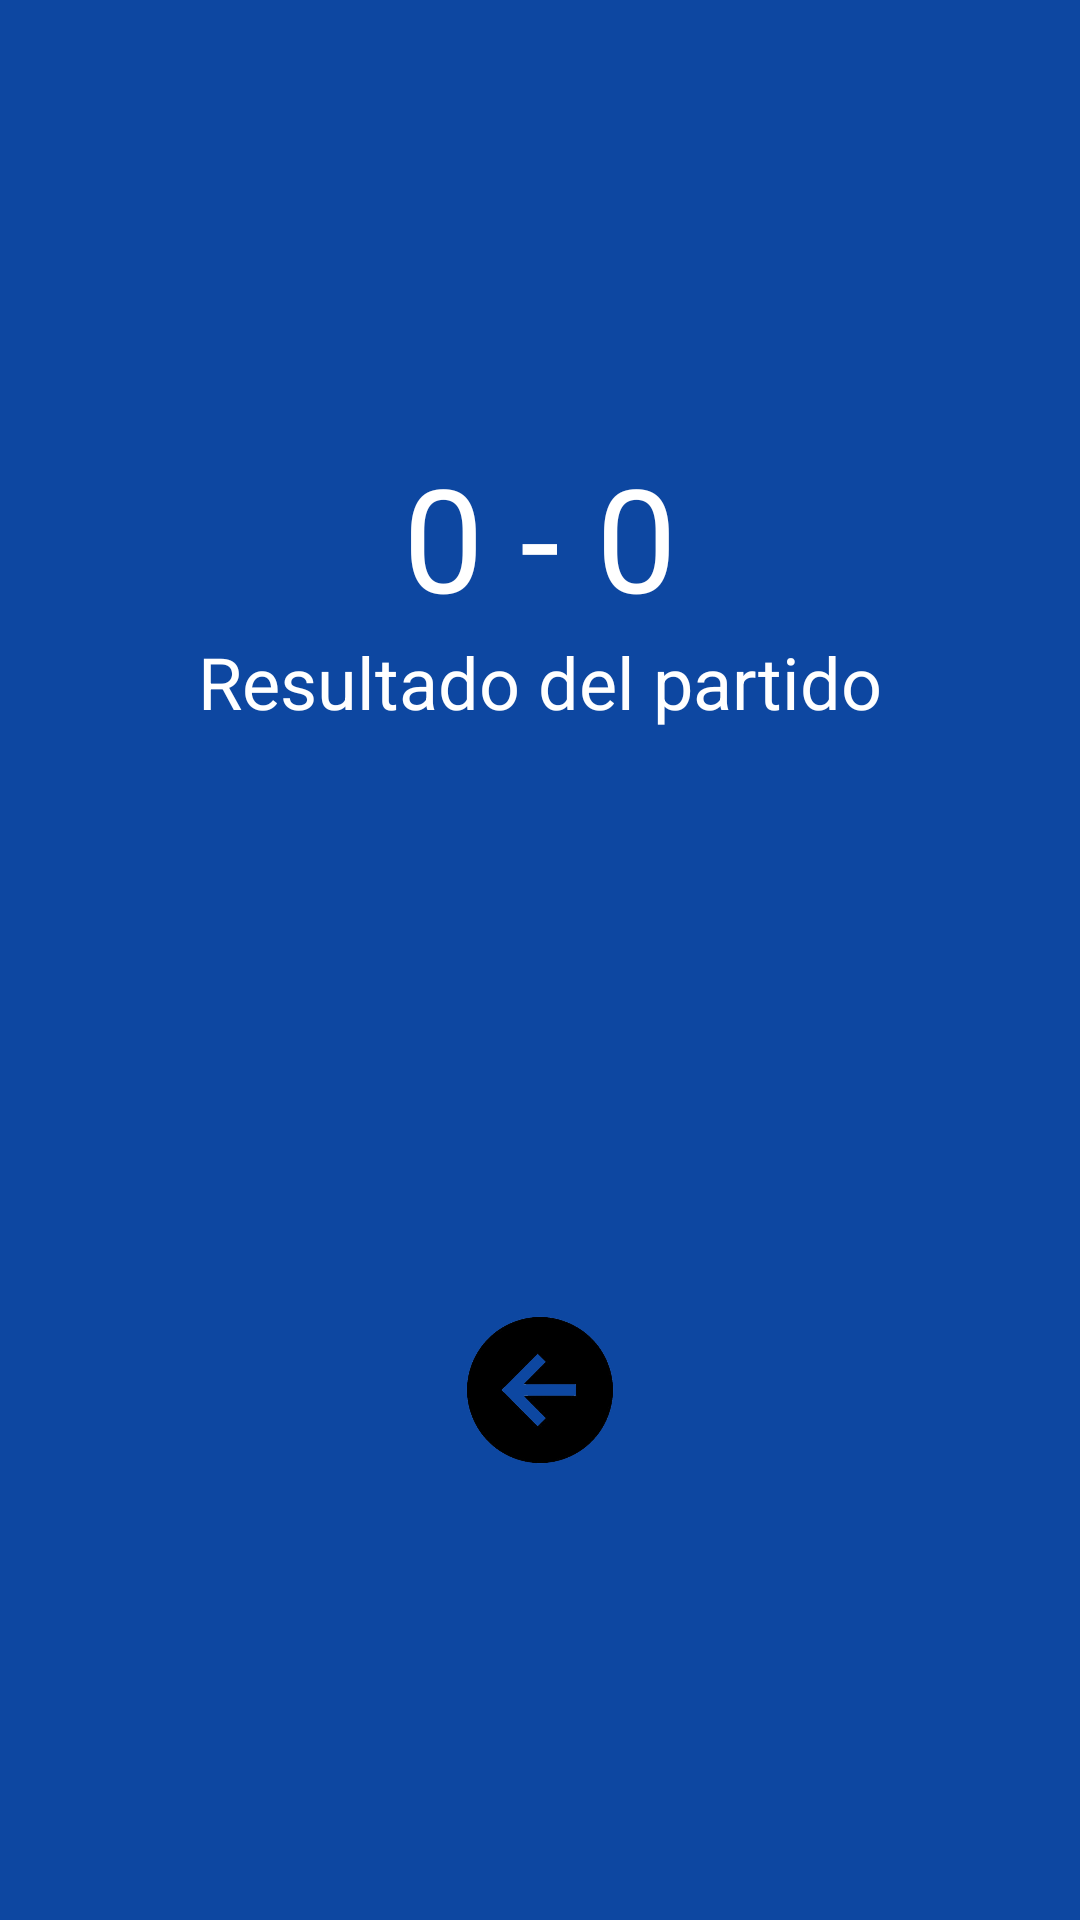

Icons on this 1080*1920 Android screen, each with the point to tap as (x,y):
Volver: (540,1390)
